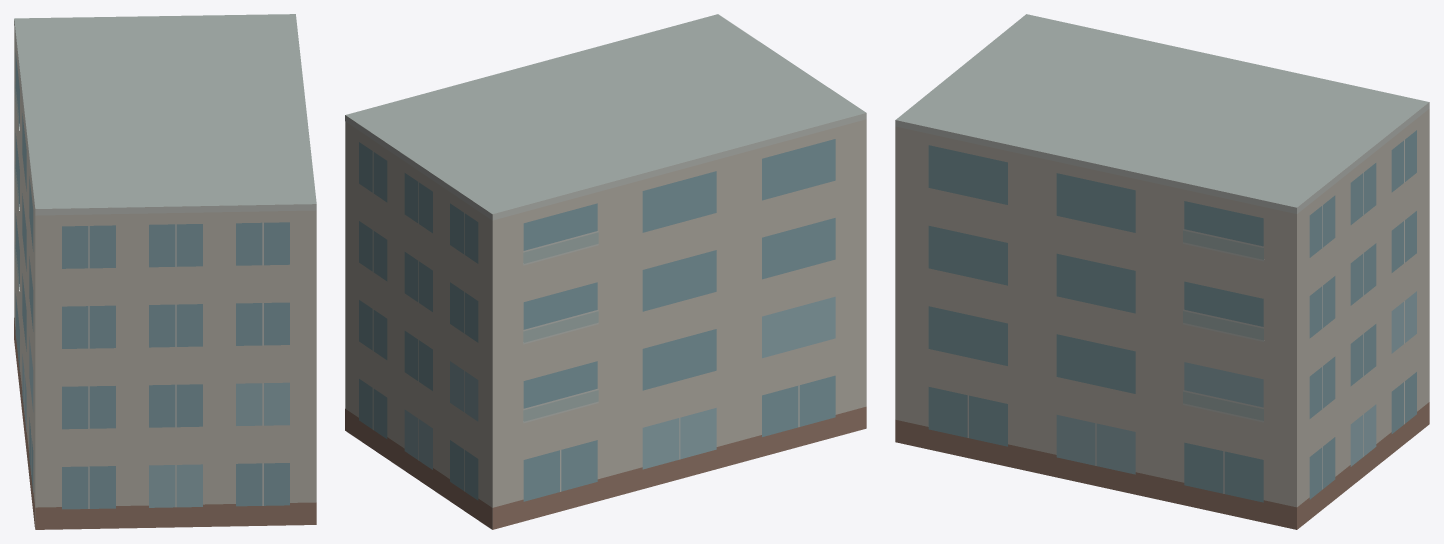
File: survey-upis-32591632.glb
3 views of the same model, side by side, from view 1: azimuth 30°, elevation 25°; view 2: azimuth 150°, elevation 25°; view 3: azimuth 270°, elevation 25° (orthographic). The views are drawn at different scales.
Visible parts, largest first — view 1: survey-upis-32591632.tmp; view 2: survey-upis-32591632.tmp; view 3: survey-upis-32591632.tmp.
Part boxes in pixels (box(x1,y1,x2,y2)): survey-upis-32591632.tmp: box(14, 14, 316, 529); survey-upis-32591632.tmp: box(345, 14, 866, 529); survey-upis-32591632.tmp: box(895, 14, 1429, 529).
Size of the model in its own units: 15.74 by 12.2 by 18.34.
